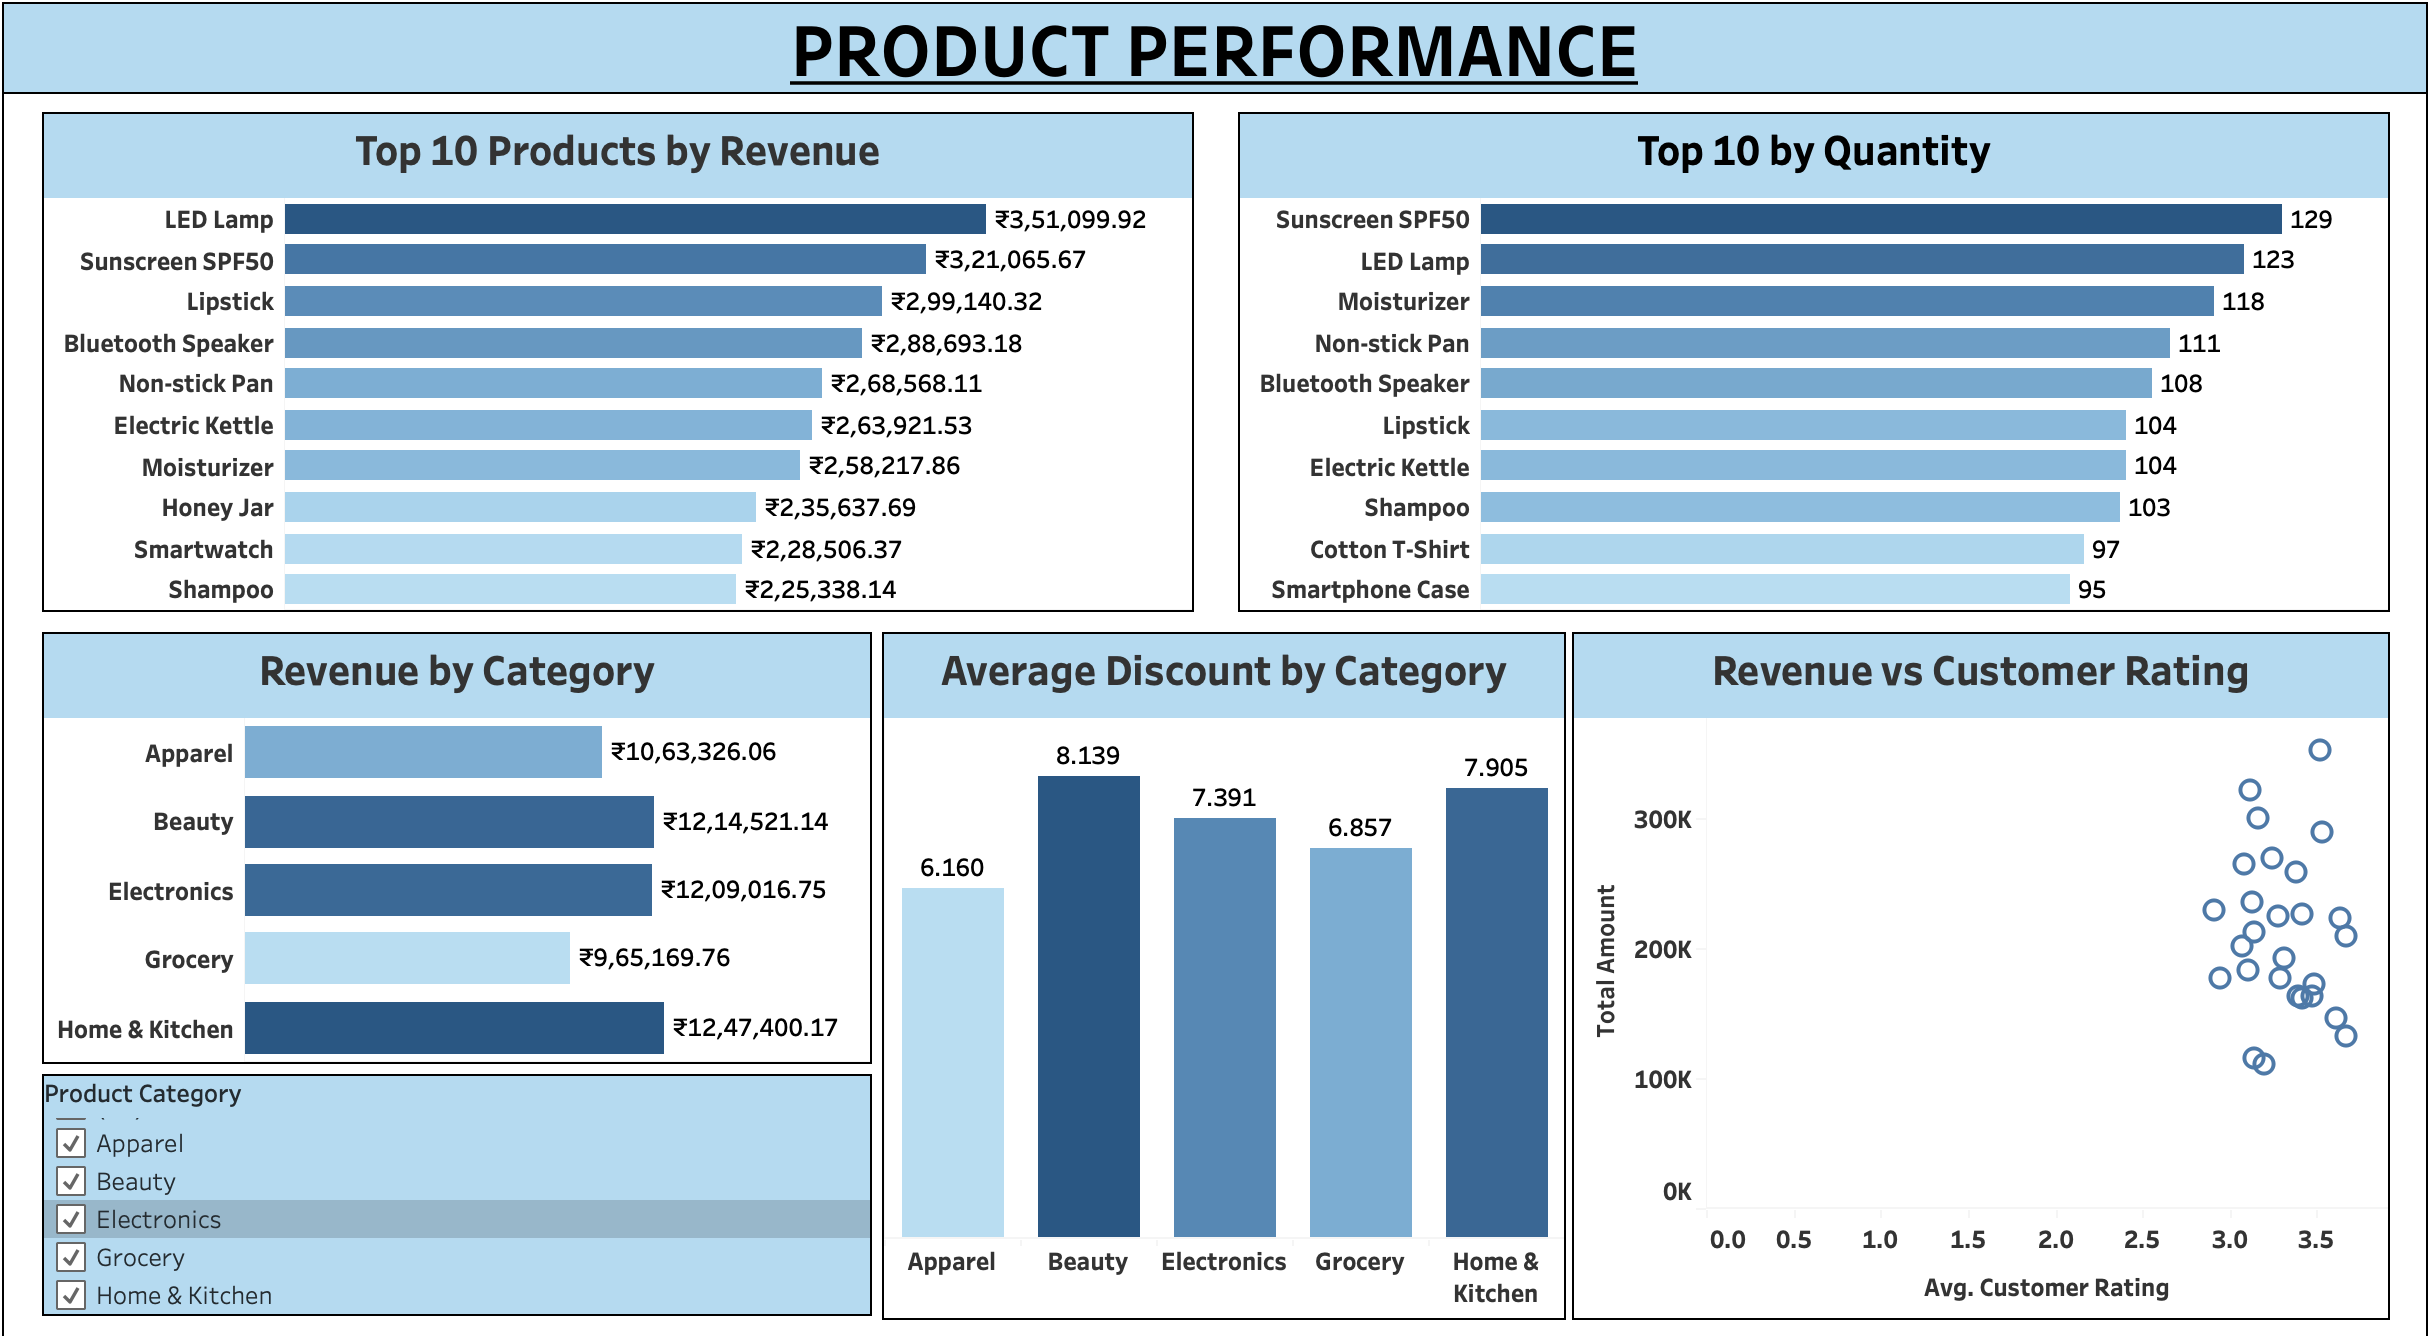

What the dashboard file says about the page in this screenshot:
{"tool":"tableau","page":{"name":"Dashboard 2","canvas":[1229,684],"ordinal":1},"visuals":[{"type":"text","box":[8,7,1213,46]},{"type":"worksheet","title":"TOP 10 PRODUCTS BY REVENUE","mark":"Automatic","rows":["product_name"],"cols":["total_amount"],"box":[28,62,576,250]},{"type":"worksheet","title":"TOP 10 BY QUANTITY  ","mark":"Automatic","rows":["product_name"],"cols":["quantity"],"box":[626,62,576,250]},{"type":"worksheet","title":"REVENUE BY CATEGORY","mark":"Automatic","rows":["product_category"],"cols":["total_amount"],"box":[28,322,415,216]},{"type":"worksheet","title":"AVG DISCOUNT BY CATEGORY ","mark":"Automatic","rows":["discount_pct"],"cols":["product_category"],"box":[448,322,342,344]},{"type":"worksheet","title":"REVENUE vs CUSTOMER RATING","mark":"Automatic","rows":["total_amount"],"cols":["customer_rating"],"box":[793,322,409,344]},{"type":"filter","title":"REVENUE BY CATEGORY","param":"[federated.0u9i5l01yto5i41epqira1vtw49c].[none:product_category:nk]","box":[28,543,415,121]}]}

Visuals, with their boxes in screenshot pixels (x1, y1, x2, y2), scaled from the page's 1229x684 canvas onto the 2430x1336 screenshot:
text: box=[16, 14, 2414, 104]
"TOP 10 PRODUCTS BY REVENUE" worksheet: box=[55, 121, 1194, 609]
"TOP 10 BY QUANTITY  " worksheet: box=[1238, 121, 2377, 609]
"REVENUE BY CATEGORY" worksheet: box=[55, 629, 876, 1051]
"AVG DISCOUNT BY CATEGORY " worksheet: box=[886, 629, 1562, 1301]
"REVENUE vs CUSTOMER RATING" worksheet: box=[1568, 629, 2377, 1301]
"REVENUE BY CATEGORY" filter: box=[55, 1061, 876, 1297]
